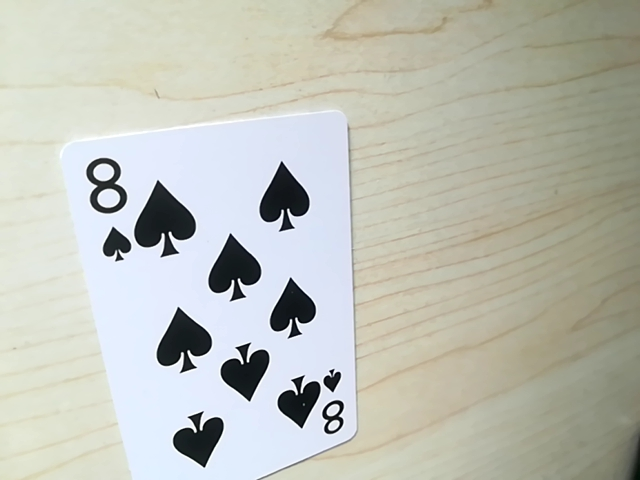ht 8: (76, 149, 138, 264), (311, 386, 349, 445)
